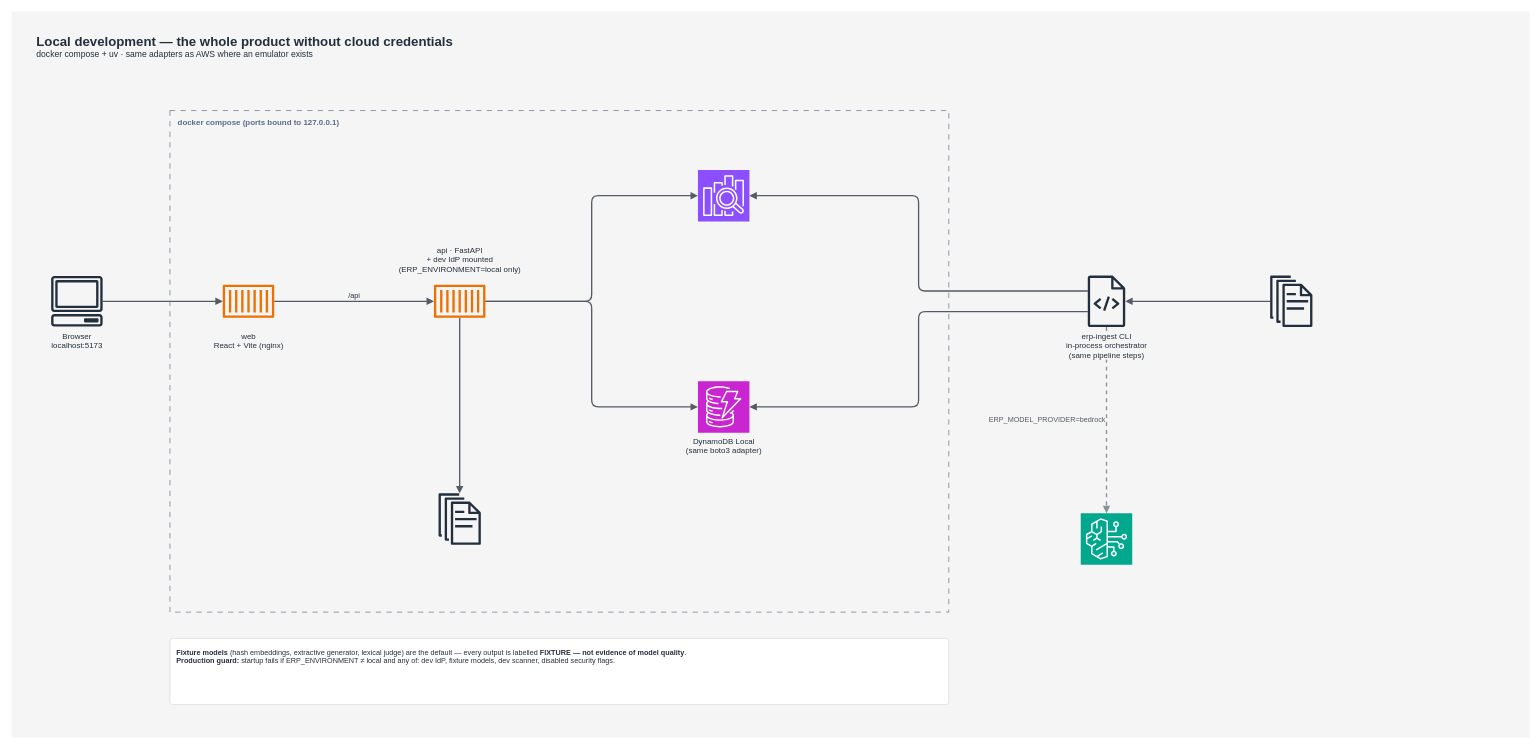
Some shapes in this 1540 by 748 pixel diagram are drawn without their labels. Here are the shapes that lost their labels. From the top down, the centre of each, then its label:
At point (723, 195): "OpenSearch 3.1 (same engine as AWS)".
At point (1291, 301): "data/synthetic (committed) data/private (gitignored)".
At point (459, 518): "artifacts volume (filesystem ArtifactStore)".
At point (1106, 538): "optional: live Bedrock (AWS profile)".
